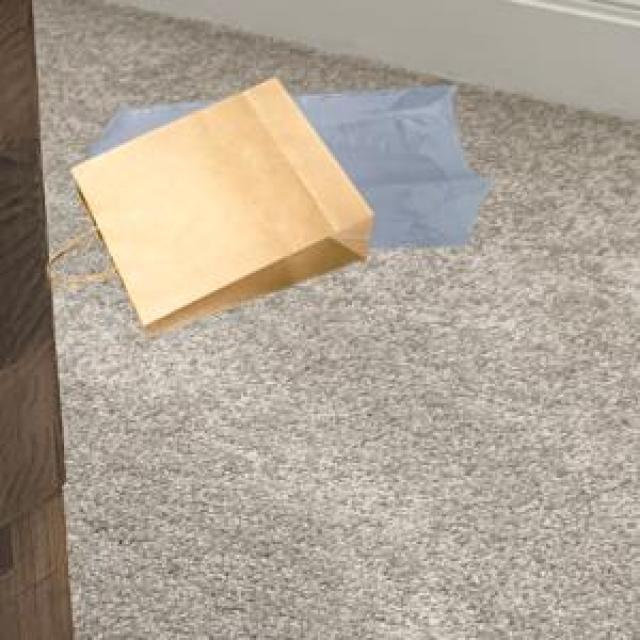paper: (45, 75, 369, 333)
